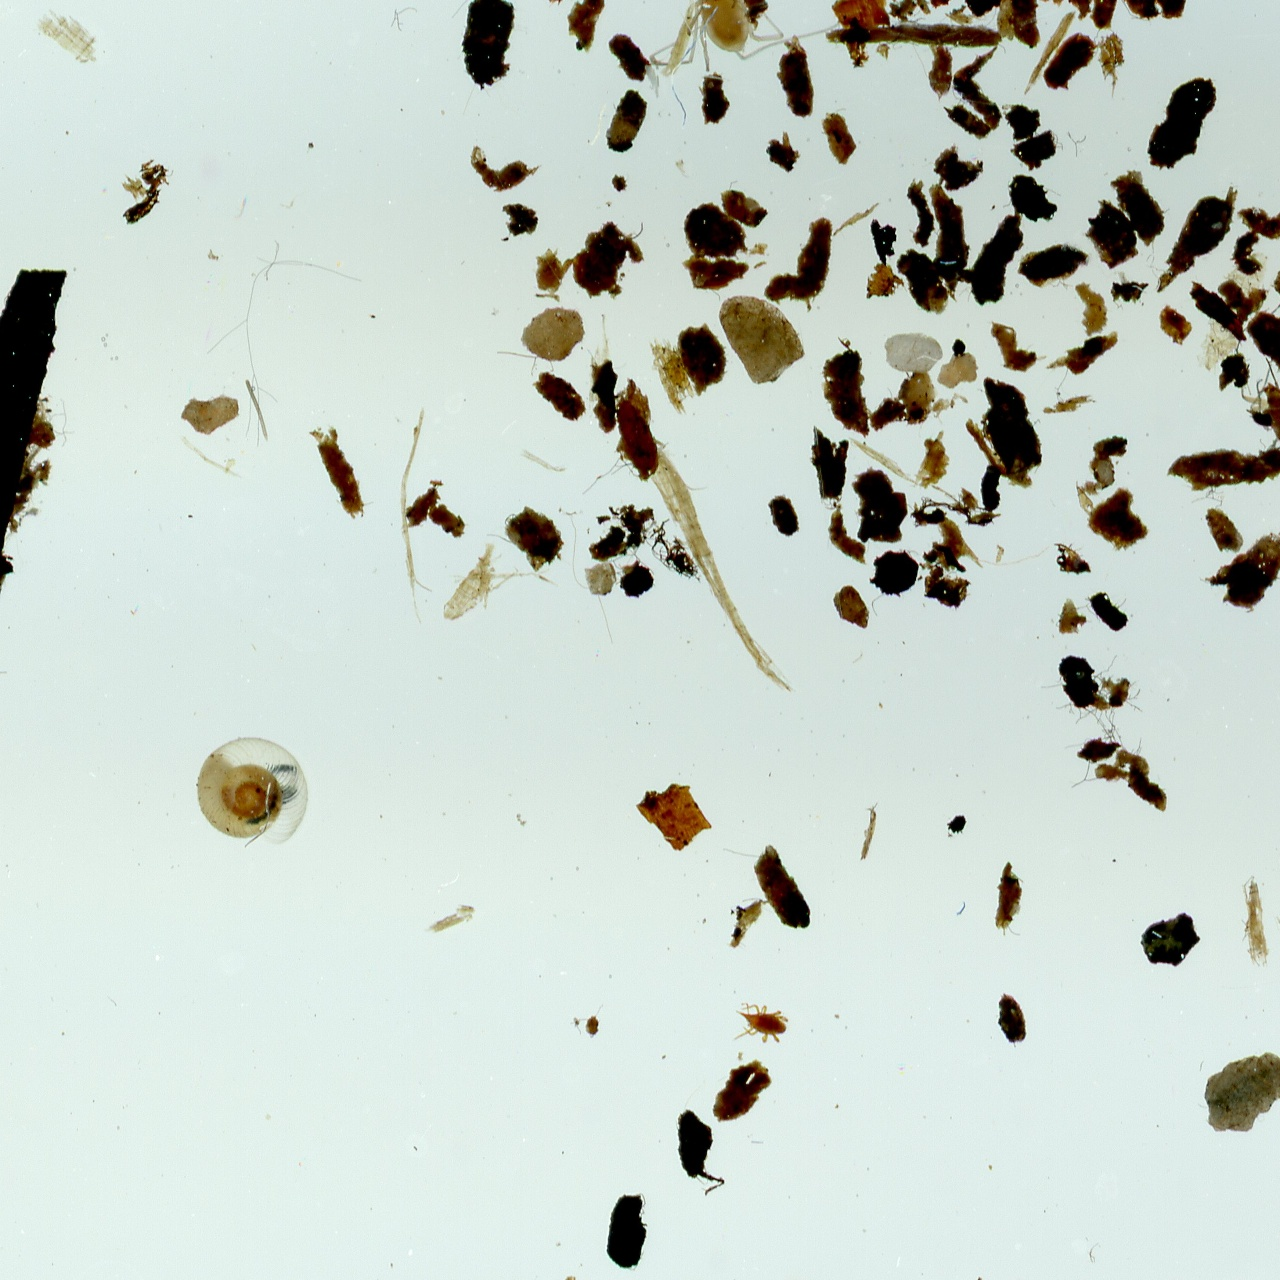arthropod: (646, 0, 842, 77), (194, 733, 313, 850), (1242, 358, 1280, 449), (729, 1000, 790, 1046)
